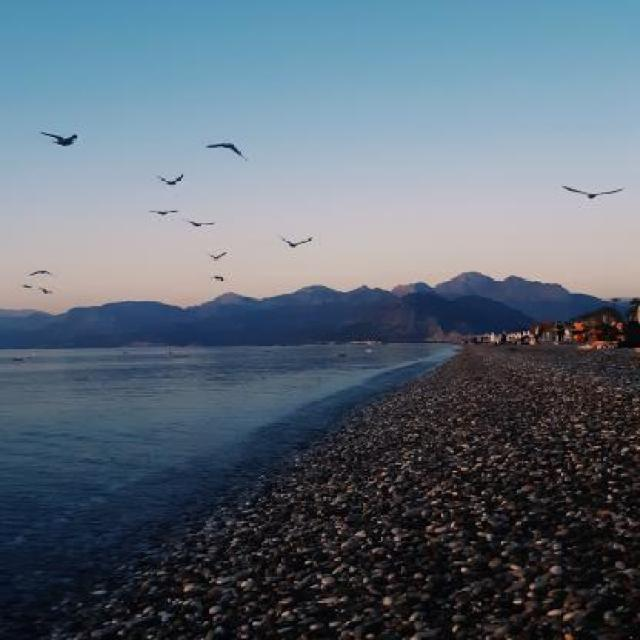bird: (562, 186, 624, 200), (206, 143, 248, 160), (39, 131, 79, 147), (278, 234, 312, 248), (182, 218, 216, 228), (156, 174, 184, 186), (28, 271, 58, 278), (148, 210, 178, 216), (206, 252, 228, 259), (210, 276, 224, 282), (38, 288, 52, 294), (20, 285, 32, 289)
